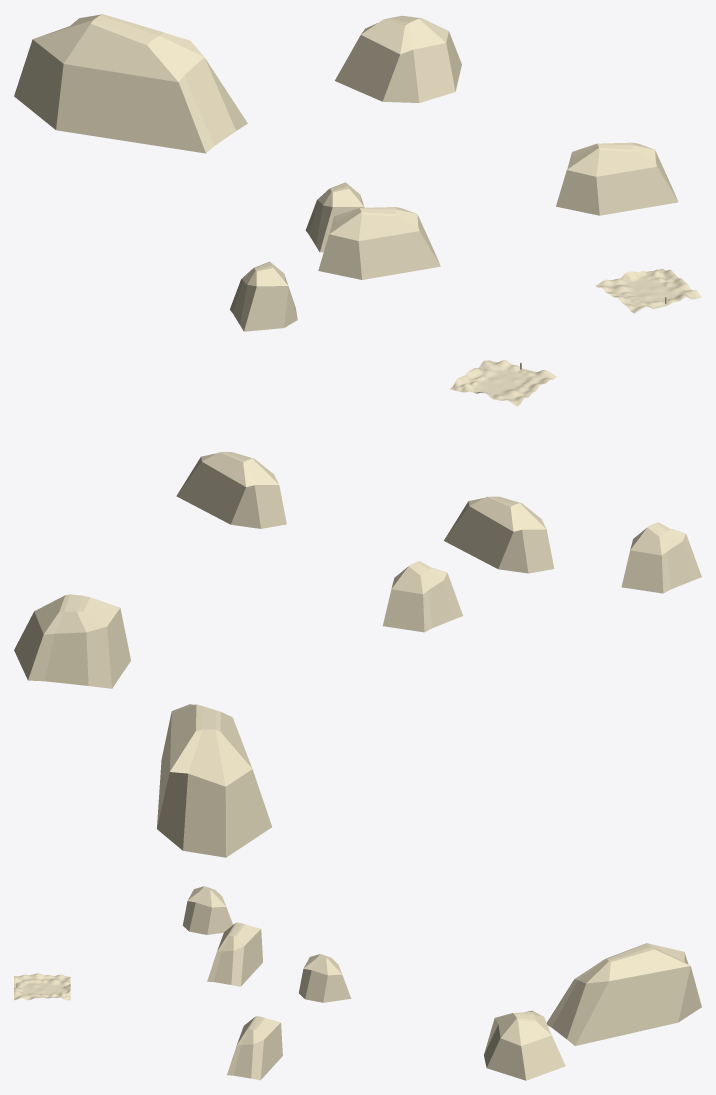
The model's file is environment1.gltf.
3 renders of one model, top to bottom at view 1: azimuth 30°, elevation 25°; view 2: azimuth 150°, elevation 25°; view 3: azimuth 270°, elevation 25°, orthographic. The views are drawn at different scales.
Parts seen in each view (by area): view 1: Cube.005, Cube.001, Cube, Cube.004, Cube.002, Grid, Cube.003; view 2: Cube.005, Cube.001, Cube.004, Cube, Cube.002, Cube.003, Grid; view 3: Cube.005, Cube.001, Cube, Cube.004, Cube.003, Cube.002, Grid.
Boxes of the visible parts, bbox=[...] form: Cube.005: bbox=[14, 14, 247, 153]; Cube.001: bbox=[335, 15, 461, 102]; Cube: bbox=[556, 142, 677, 215]; Cube.004: bbox=[318, 207, 440, 279]; Cube.002: bbox=[230, 261, 297, 331]; Grid: bbox=[595, 268, 701, 313]; Cube.003: bbox=[305, 182, 364, 252]; Cube.005: bbox=[157, 704, 271, 857]; Cube.001: bbox=[14, 594, 130, 688]; Cube.004: bbox=[444, 496, 554, 573]; Cube: bbox=[176, 452, 286, 528]; Cube.002: bbox=[621, 522, 701, 593]; Cube.003: bbox=[383, 561, 462, 632]; Grid: bbox=[449, 360, 556, 406]; Cube.005: bbox=[546, 943, 701, 1045]; Cube.001: bbox=[484, 1010, 565, 1080]; Cube: bbox=[227, 1016, 282, 1080]; Cube.004: bbox=[207, 922, 262, 986]; Cube.003: bbox=[299, 954, 351, 1002]; Cube.002: bbox=[182, 886, 232, 934]; Grid: bbox=[14, 973, 70, 1000].
Bounding box in the file's own units: 139 × 31.63 × 243.
